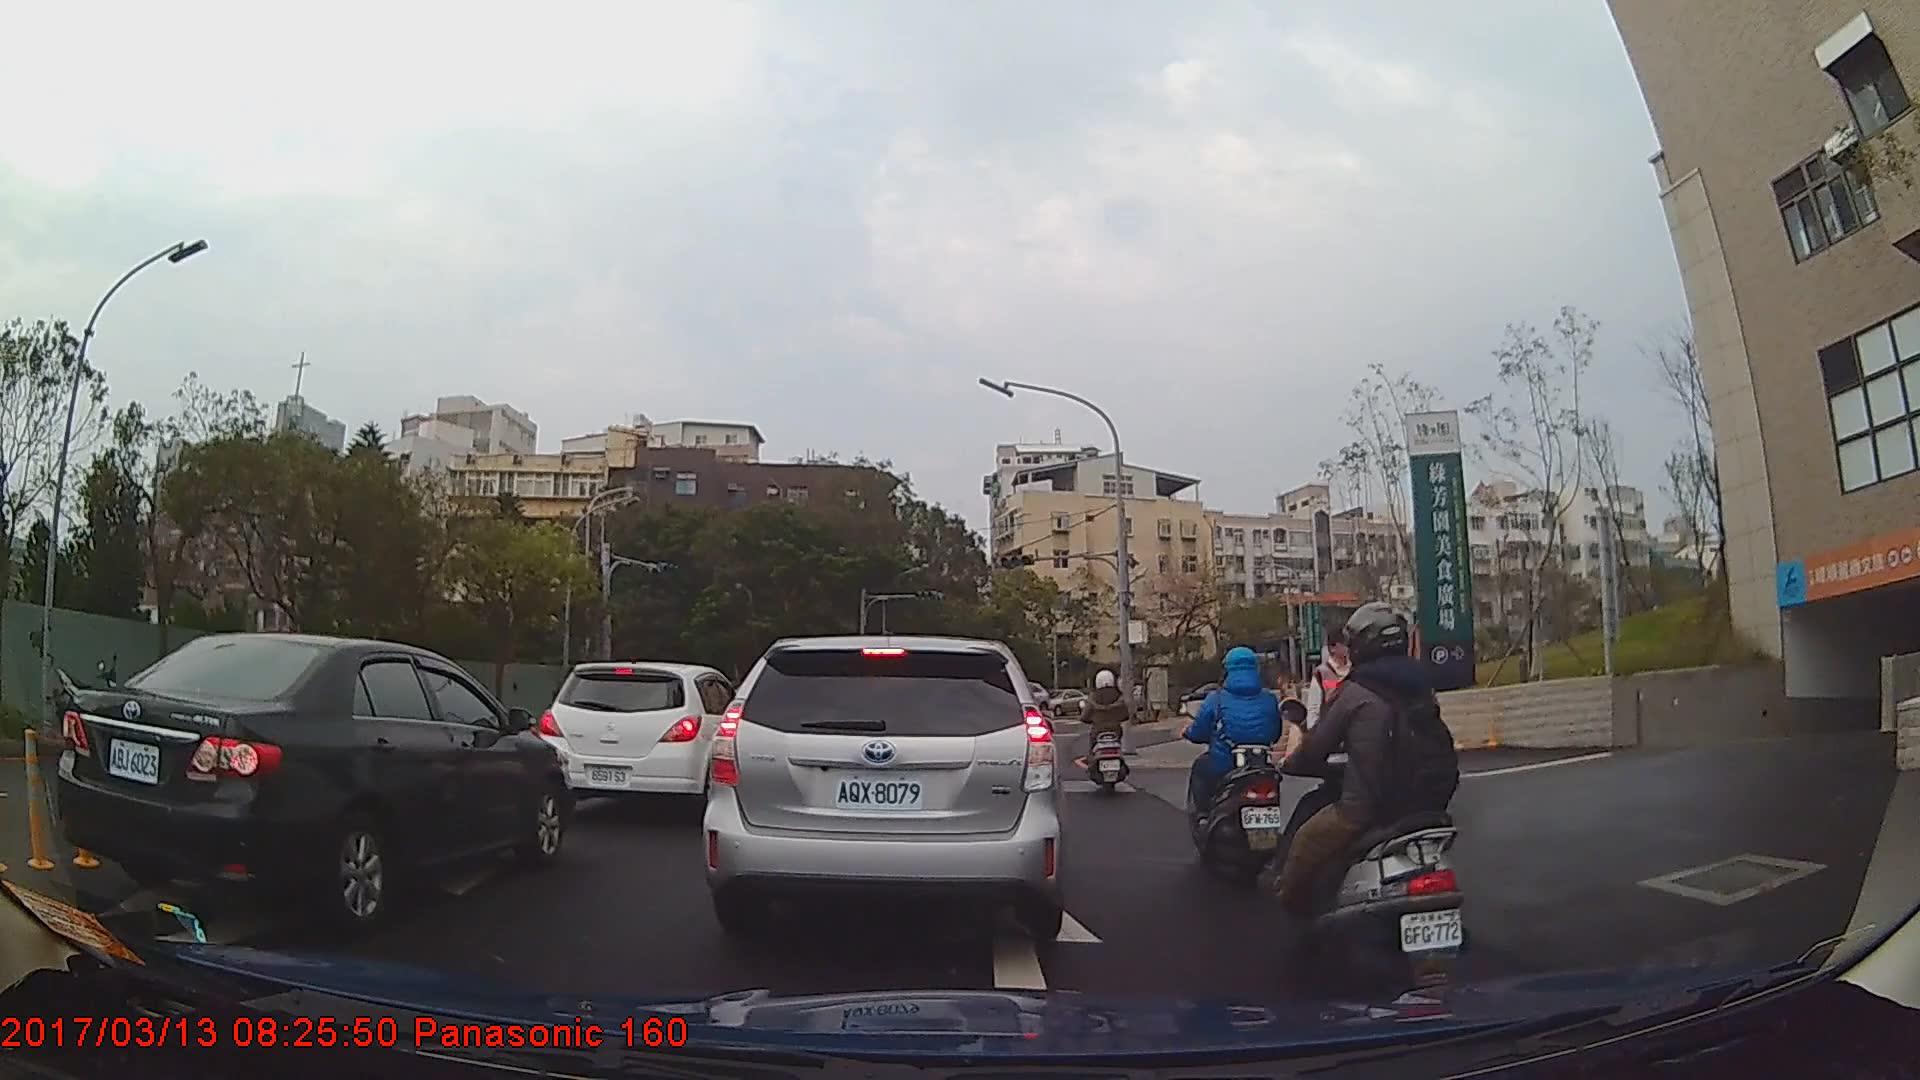pedestrian: (1302, 623, 1387, 857)
rider: (1264, 601, 1472, 1017), (1186, 644, 1293, 887), (1079, 670, 1133, 797)
vehicle: (53, 628, 569, 928), (702, 632, 1066, 943), (533, 660, 744, 821), (1176, 678, 1241, 711), (1049, 688, 1089, 717)
